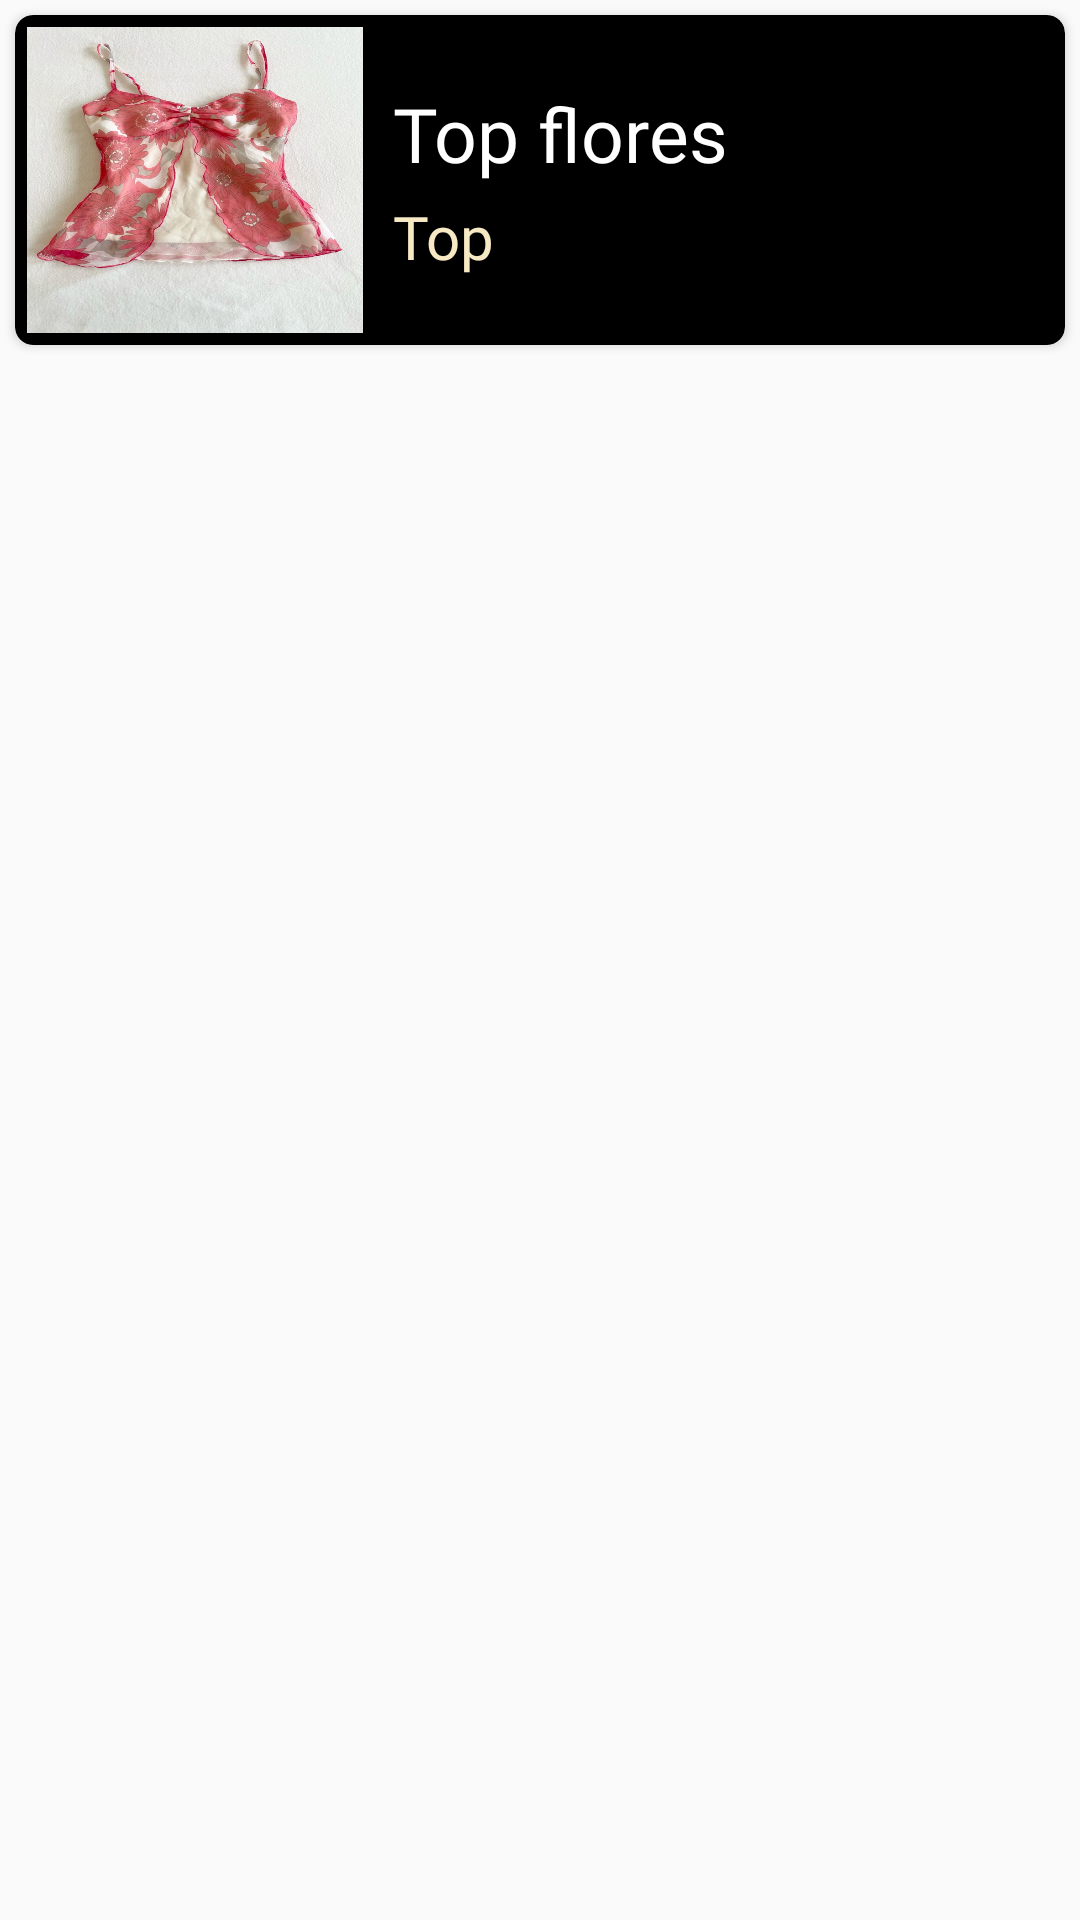

Named icons in this screenshot (1080x1920) and their centers, point (x, y):
top rosa flores: point (195, 180)
